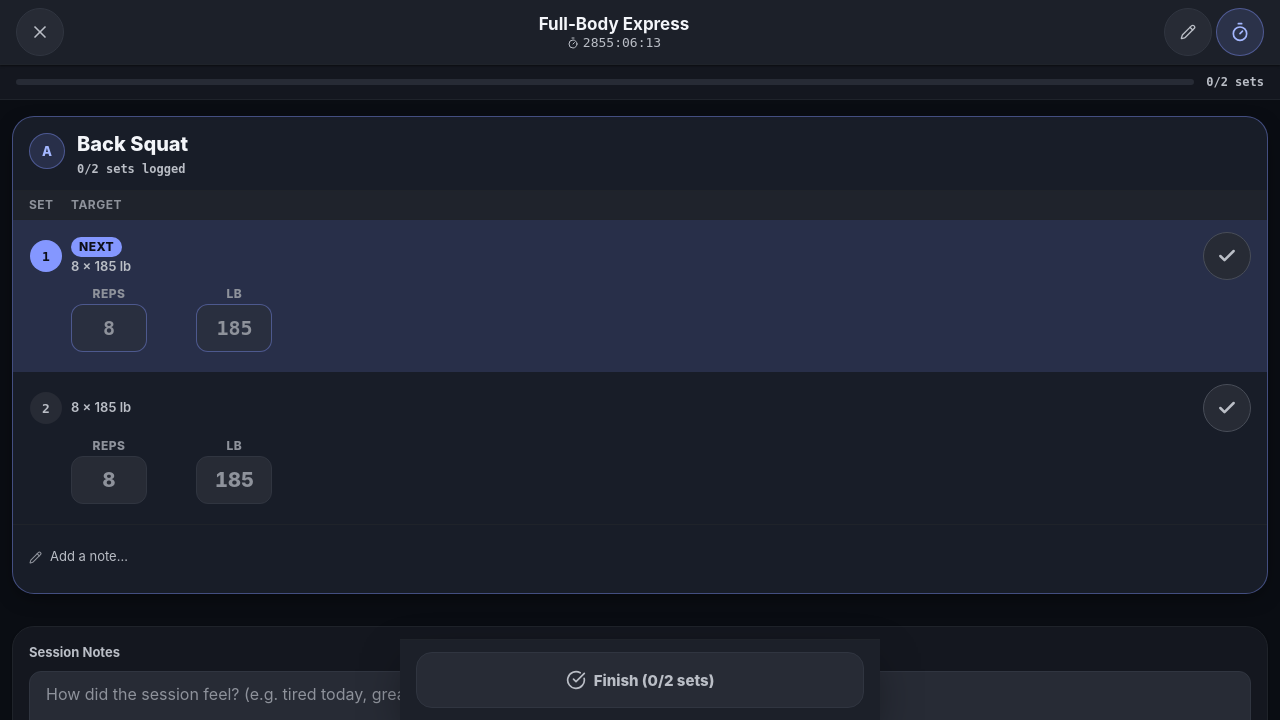
it: ActiveWorkoutView › stops rest when the workout is finished early
This screenshot has width=1280, height=720.
Click the button named "Mark complete" in the row of "Next" at (1227, 256), box [1203,232,1251,280]
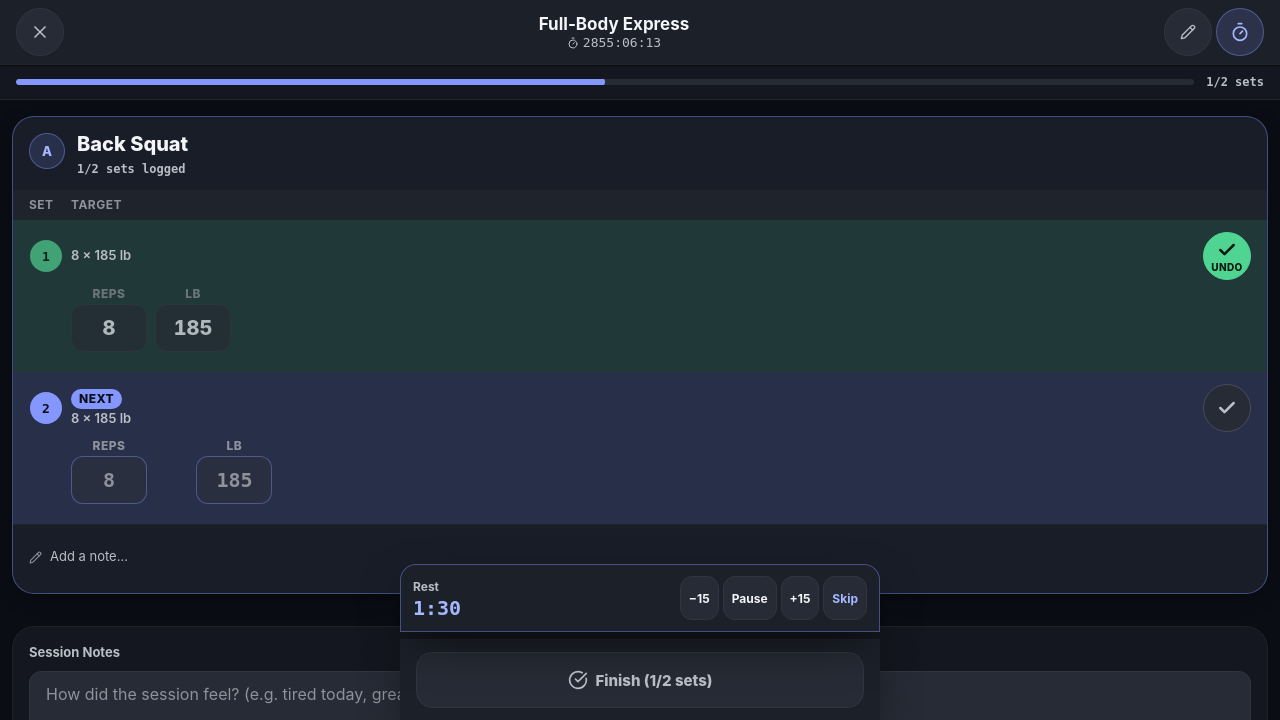
Expected: the element named "Rest timer" is shown, [400,564,880,632]
Click the button "Finish (1/2 sets)" at (640, 680), box [416,652,864,708]
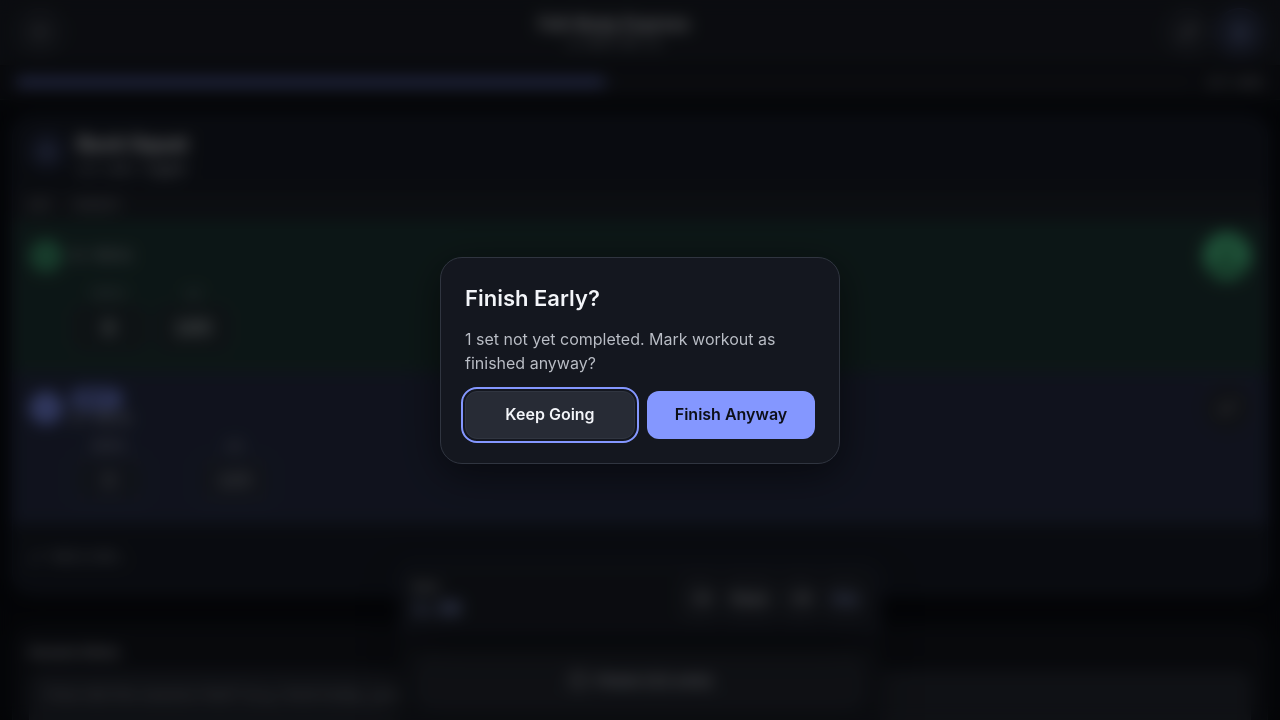
Click the button "Finish Anyway" at (731, 414), box [647,390,815,438]
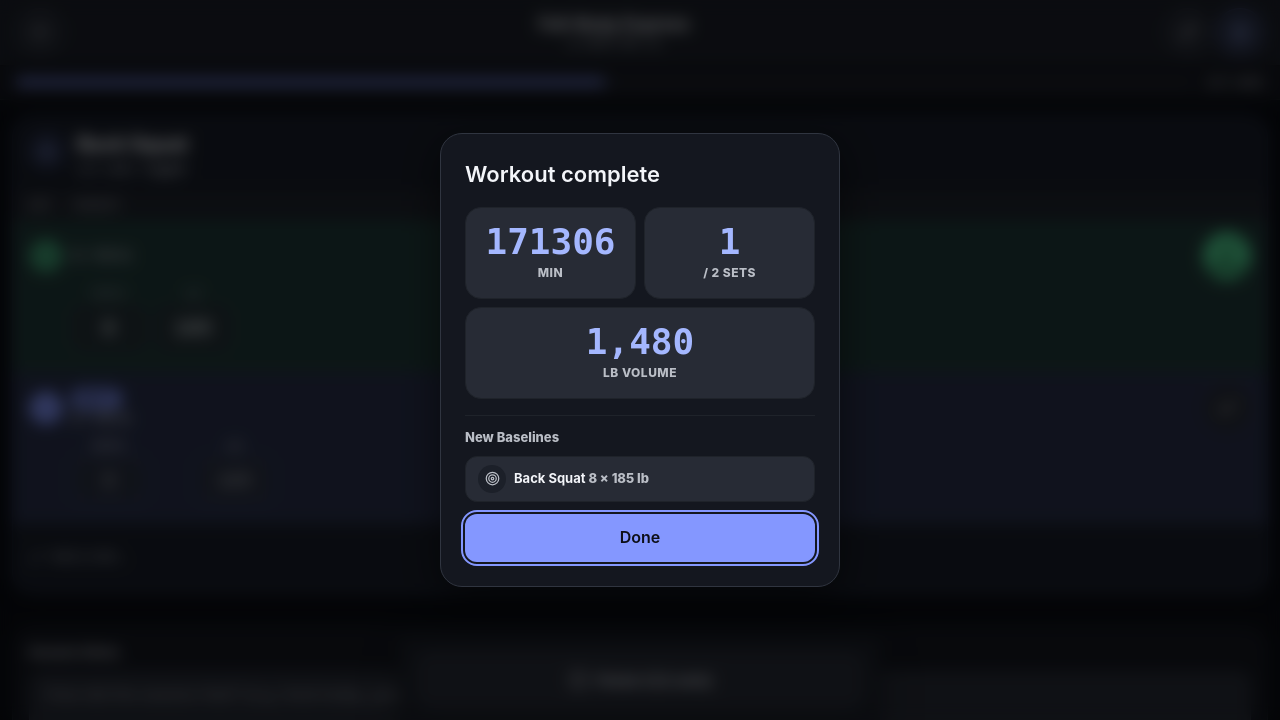
Expected: the element with class "rest-timer" is gone
Expected: the heading "Workout complete" is shown, [465,161,660,187]
